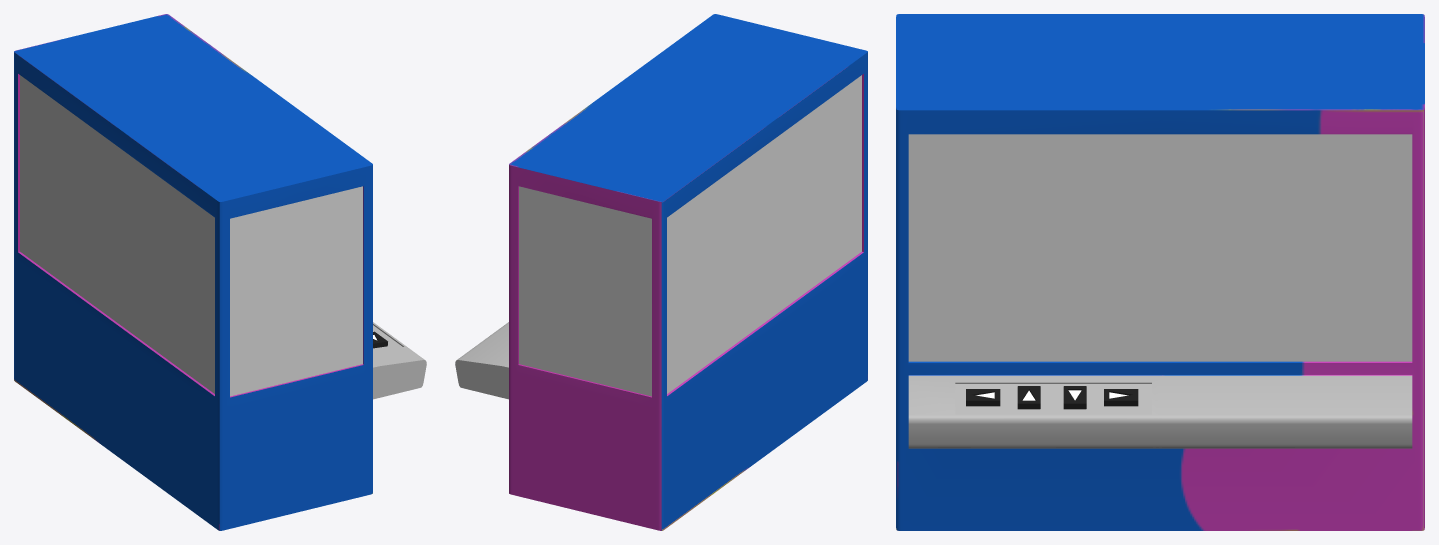
Rendered from BubbleClow.fbx.
3 renders of one model, left to right at view 1: azimuth 30°, elevation 25°; view 2: azimuth 150°, elevation 25°; view 3: azimuth 270°, elevation 25°, orthographic. The views are drawn at different scales.
Parts seen in each view (by area): view 1: case, glass, control; view 2: case, glass, control; view 3: case, glass, control, des, sin.
Part boxes in pixels (bbox=[...]): case: bbox=[14, 14, 372, 530]; glass: bbox=[20, 75, 362, 396]; control: bbox=[373, 322, 426, 399]; case: bbox=[509, 14, 867, 530]; glass: bbox=[519, 75, 861, 396]; control: bbox=[455, 322, 508, 399]; case: bbox=[896, 14, 1424, 530]; glass: bbox=[908, 134, 1412, 361]; control: bbox=[908, 375, 1412, 448]; des: bbox=[1104, 389, 1138, 406]; sin: bbox=[966, 389, 1000, 406].
Size of the model in its own units: 136 by 202 by 230.
